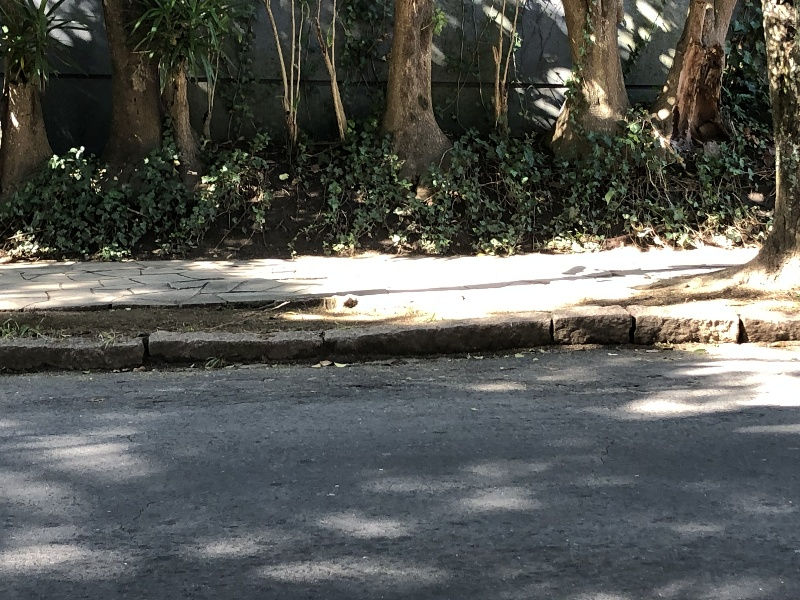v10: (2, 294, 800, 401)
